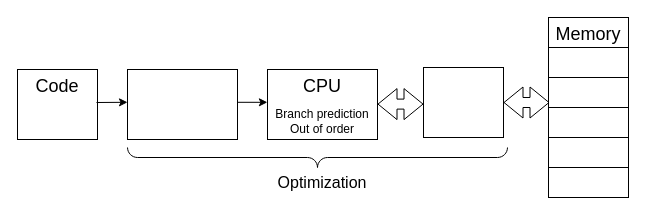
This 646x215 diagram has some shape labels left out. The shapes that lost their labels are listed below. From the top down, each one's centre as x and y in pixels, then its label:
At pixel 182 104: "Compiler Register allocation".
At pixel 463 102: "Cache Prefetching Buffering".
